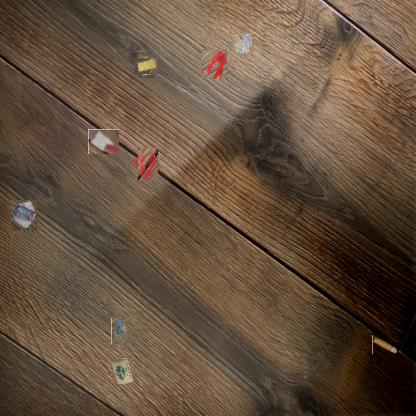dirty: (11, 200, 37, 230), (88, 129, 119, 154), (111, 358, 133, 384), (372, 334, 397, 354), (111, 318, 128, 344), (136, 56, 157, 76), (234, 33, 254, 53)
liquid: (134, 150, 162, 178), (201, 50, 227, 80)
